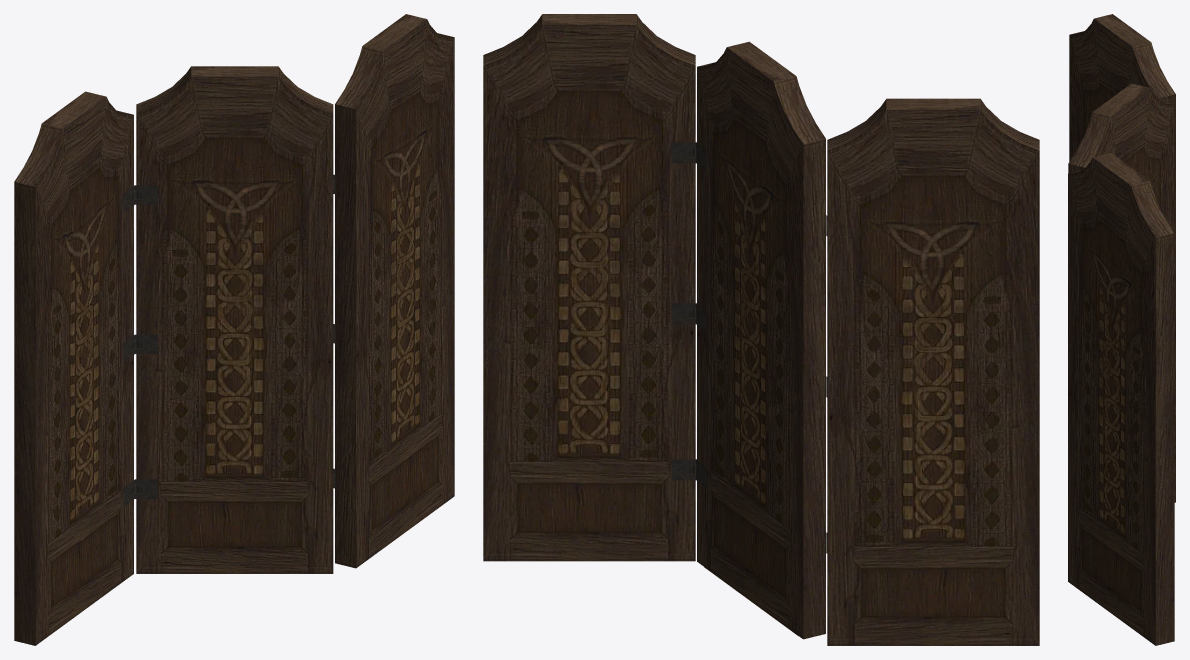
Rendered from eso_gu1_WoodFurniture12-transformed.glb.
3 renders of one model, left to right at view 1: azimuth 30°, elevation 25°; view 2: azimuth 150°, elevation 25°; view 3: azimuth 270°, elevation 25°, orthographic. The views are drawn at different scales.
Visible parts, largest first — view 1: default; view 2: default; view 3: default.
Part boxes in pixels (box(x1,y1,x2,y2)): default: box(14, 14, 454, 645); default: box(483, 14, 1039, 645); default: box(1068, 14, 1175, 645).
Size of the model in its own units: 2.55 by 2.53 by 0.5592.
1 material, 1 textured.
